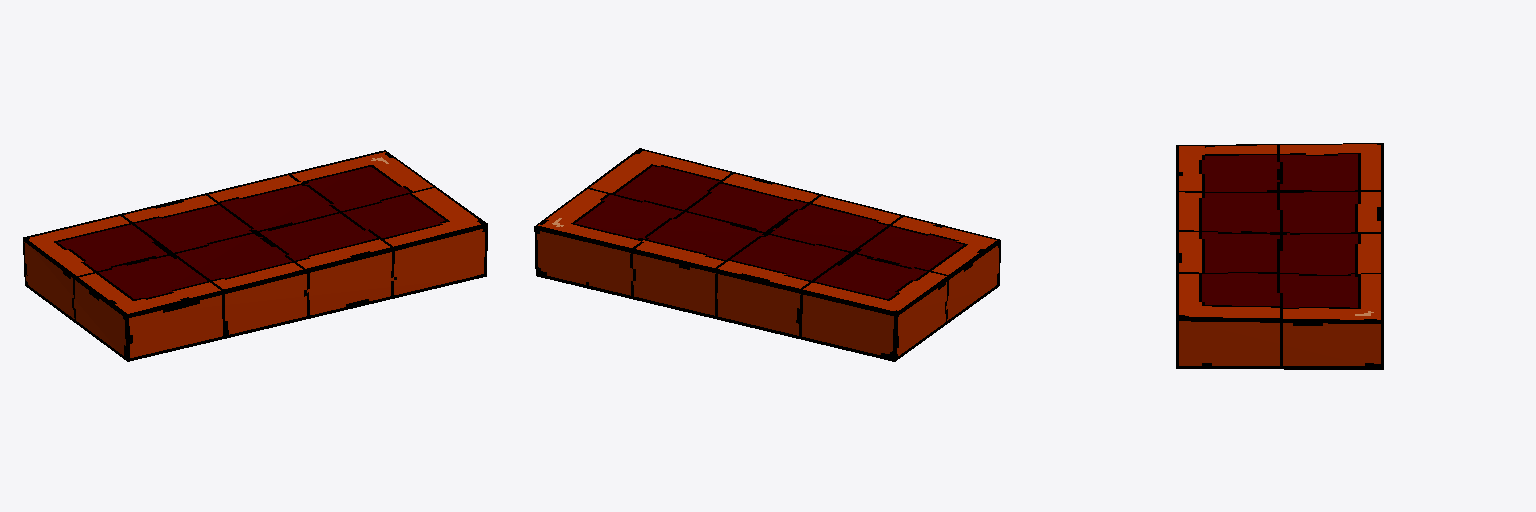
3 views of the same model, side by side, from view 1: azimuth 30°, elevation 25°; view 2: azimuth 150°, elevation 25°; view 3: azimuth 270°, elevation 25° (orthographic).
Parts seen in each view (by area): view 1: Cube; view 2: Cube; view 3: Cube.
Boxes of the visible parts, box(x1,y1,x2,y2) form: Cube: box(23, 150, 487, 361); Cube: box(534, 148, 1000, 361); Cube: box(1176, 143, 1383, 369).
Size of the model in its own units: 3.01 by 0.4118 by 1.5.
1 materials, 1 textured.